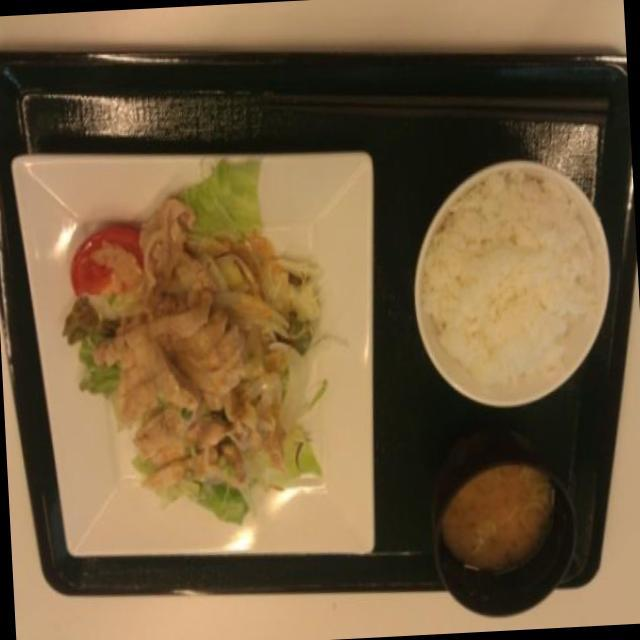Rice: (422, 170, 612, 398)
